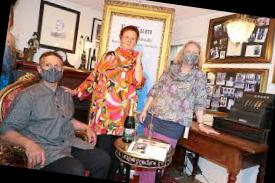mask_weared_incorrect: (121, 35, 137, 56)
with_mask: (42, 59, 64, 78), (183, 47, 200, 62)
